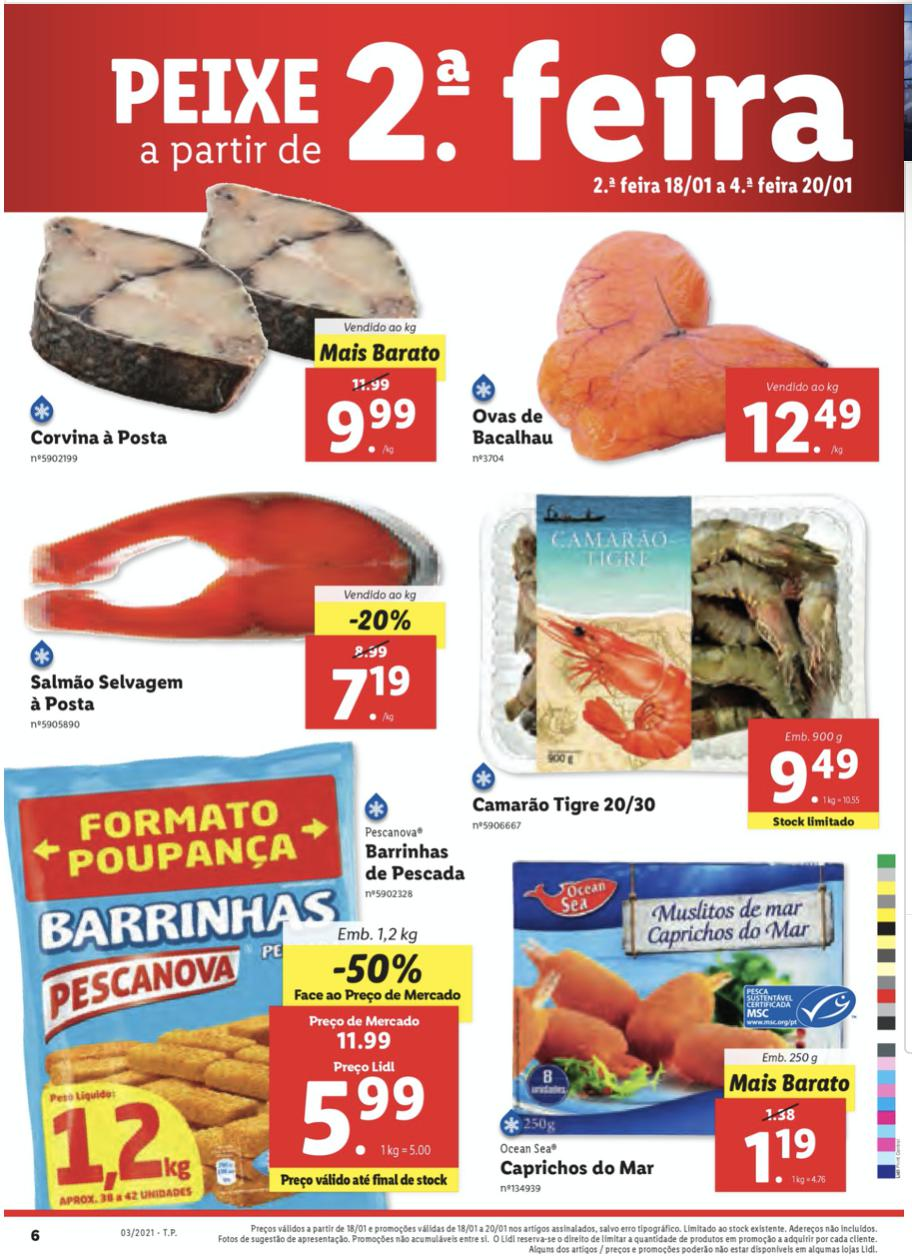name: (18, 666, 195, 719), (354, 838, 473, 891), (465, 788, 668, 819), (490, 1149, 662, 1182), (27, 427, 179, 455), (471, 407, 563, 450)
price: (298, 1072, 432, 1164), (738, 393, 866, 463), (318, 393, 426, 458), (324, 657, 420, 727), (762, 743, 863, 807), (741, 1124, 831, 1186)
product: (7, 760, 481, 1213), (457, 480, 901, 839), (15, 183, 459, 477), (485, 847, 860, 1191), (13, 480, 451, 746), (465, 214, 901, 480)
promotion: (329, 947, 427, 988), (345, 607, 413, 638)
